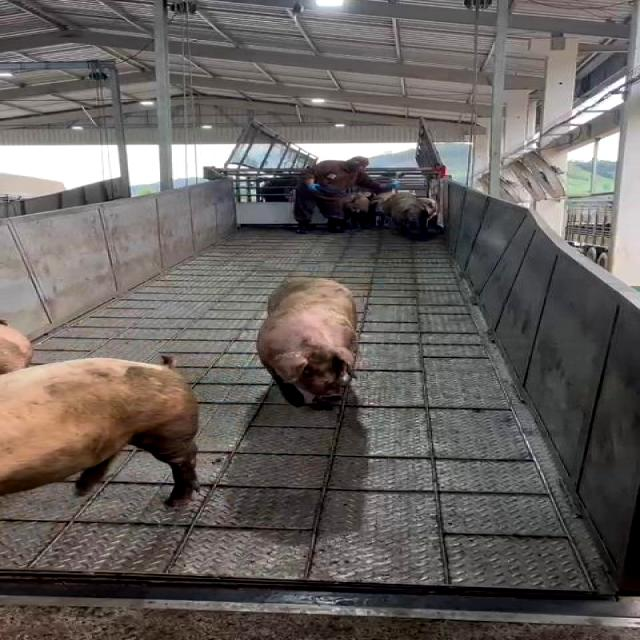pig: (0, 358, 199, 506), (257, 279, 358, 410)
